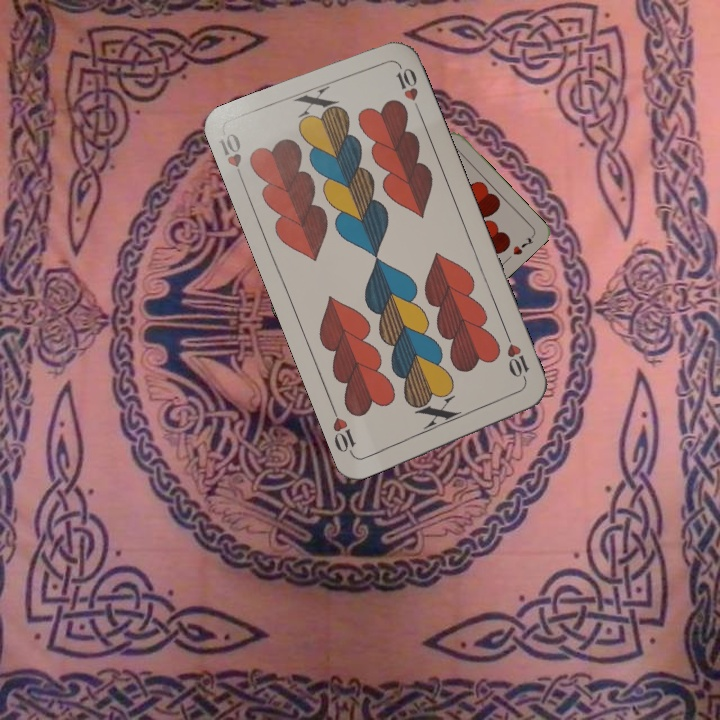H10: (215, 129, 248, 187), (502, 330, 532, 388)
